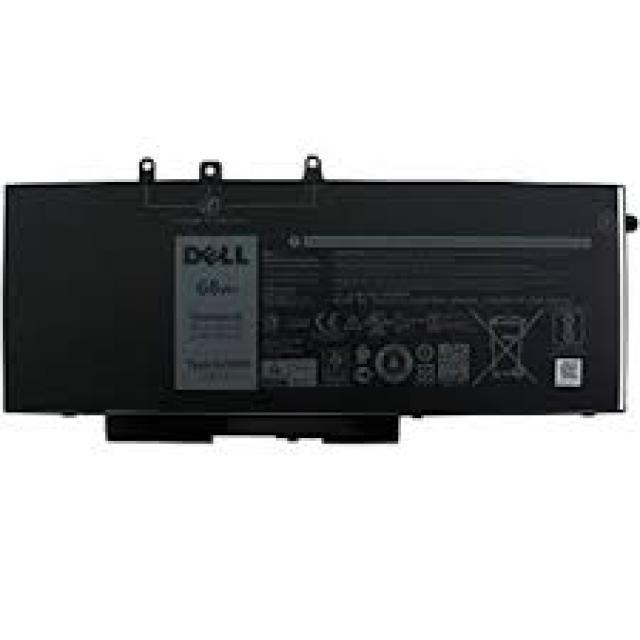battery: (3, 156, 640, 444)
